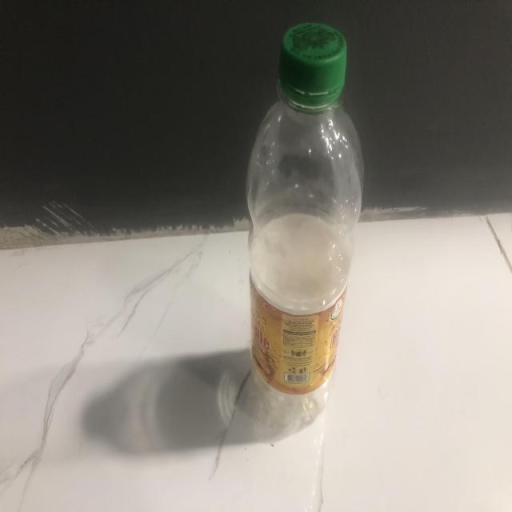plastic: (247, 22, 363, 431)
